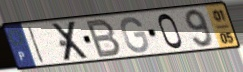0: (157, 12, 184, 50)
9: (182, 7, 216, 49)
B: (85, 17, 123, 60)
G: (119, 16, 151, 54)
I: (26, 25, 47, 65)
X: (50, 20, 91, 64)
